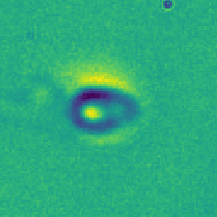normal: (1, 91, 65, 134)
